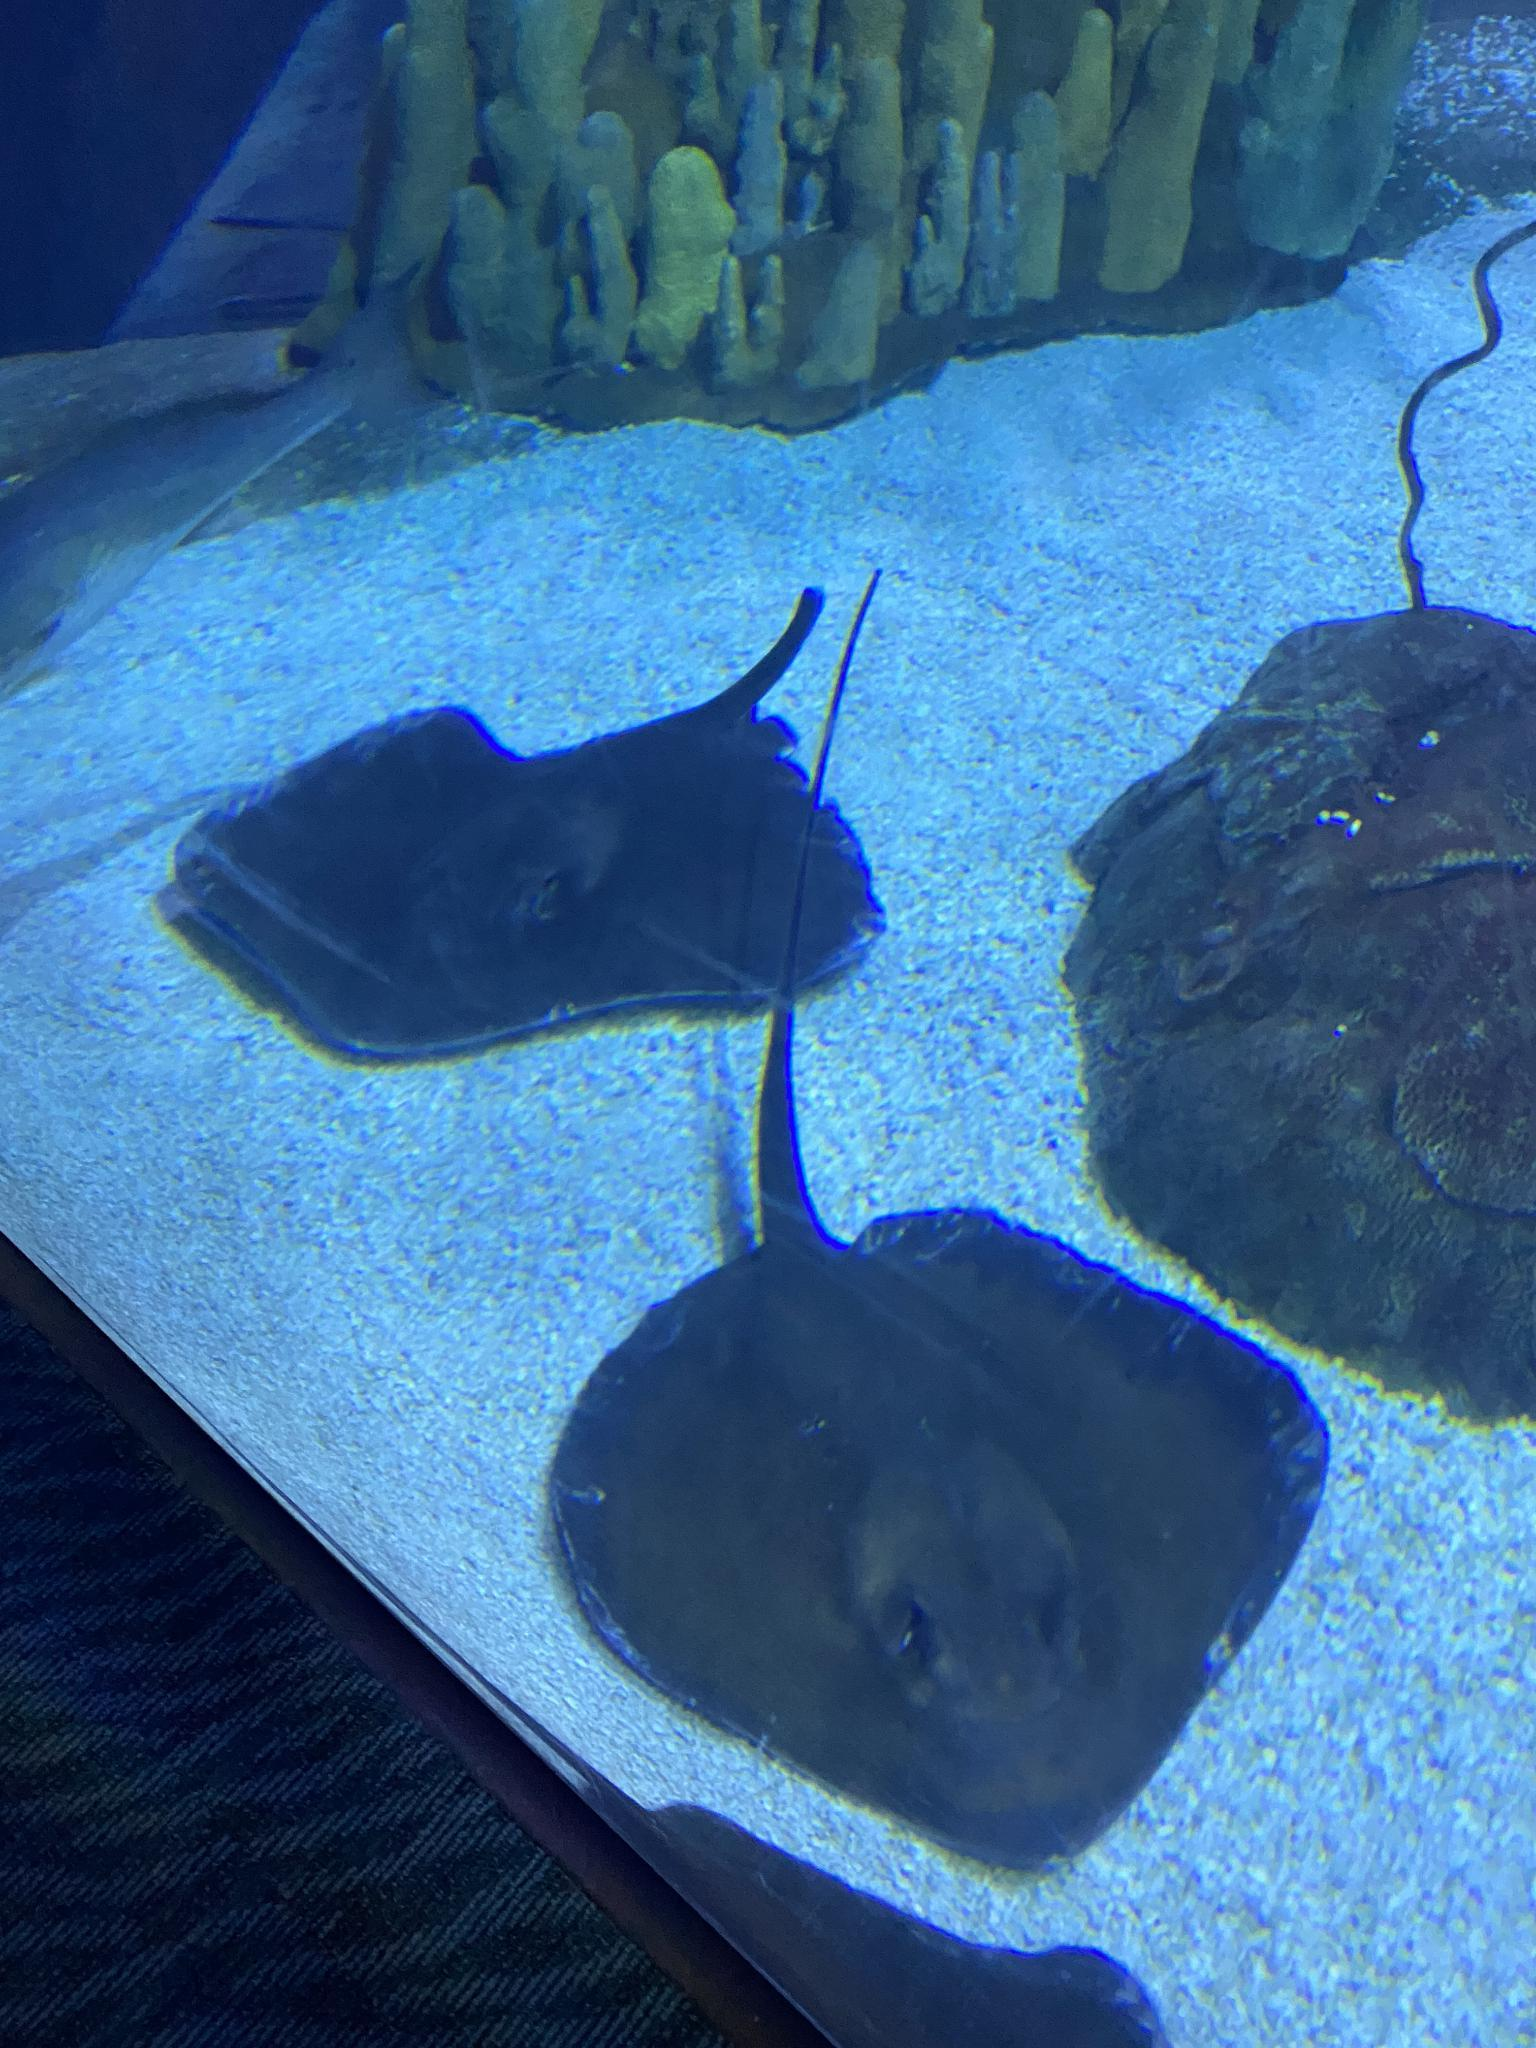fish: (0, 261, 449, 695)
stingray: (545, 1206, 1329, 1871), (168, 710, 879, 1068)
